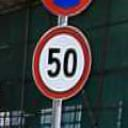speed_limit_50: (32, 25, 92, 101)
